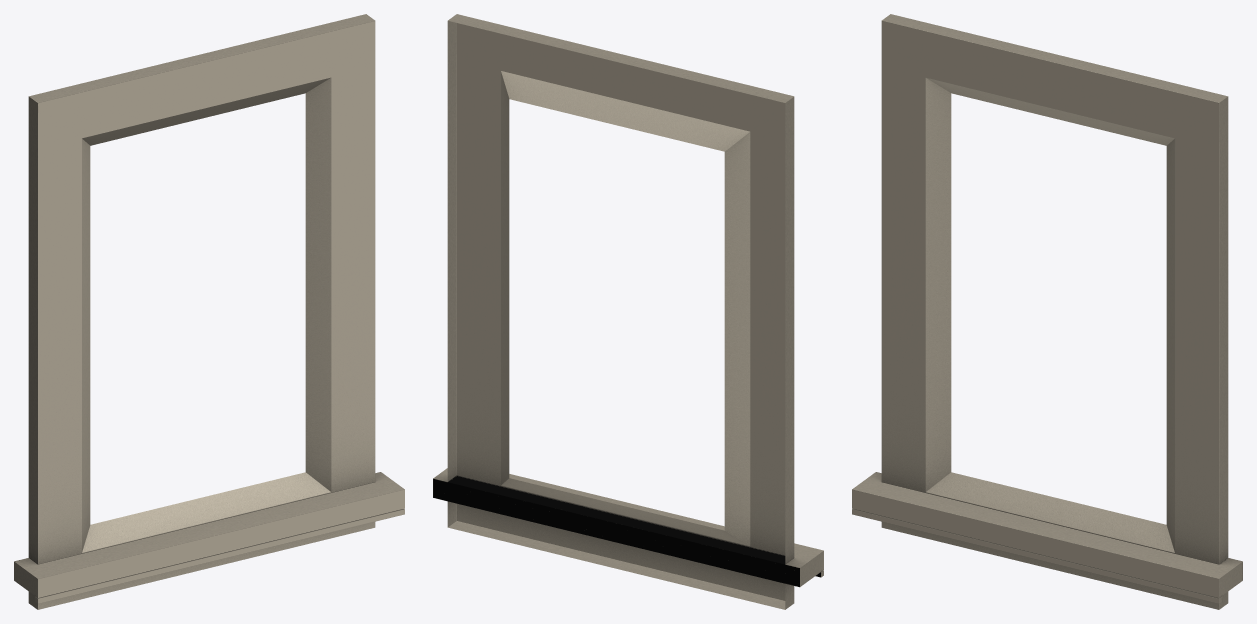
The model's file is fenster_modul.glb.
3 renders of one model, left to right at view 1: azimuth 30°, elevation 25°; view 2: azimuth 150°, elevation 25°; view 3: azimuth 330°, elevation 25°, orthographic.
Visible parts, largest first — view 1: fenster_modul; view 2: fenster_modul; view 3: fenster_modul.
Boxes of the visible parts, left/top/right/bottom form: fenster_modul: left=14, top=14, right=404, bottom=609; fenster_modul: left=433, top=14, right=823, bottom=609; fenster_modul: left=852, top=14, right=1242, bottom=609.
Bounding box in the file's own units: 1.5 × 1.98 × 0.17.
1 material, 1 textured.
